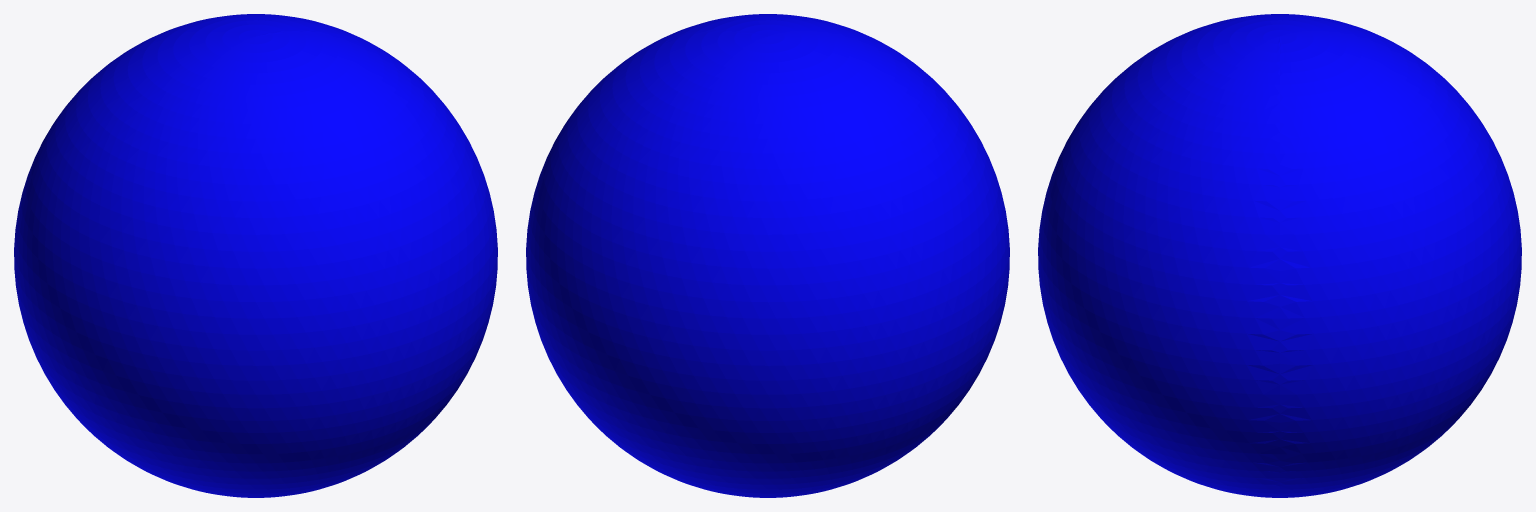
File: pelota1.dae
The picture shows the model from 3 angles, left to right: view 1: azimuth 30°, elevation 25°; view 2: azimuth 150°, elevation 25°; view 3: azimuth 270°, elevation 25°; orthographic projection.
Parts seen in each view (by area): view 1: node0; view 2: node0; view 3: node0.
Part boxes in pixels (x1,y1,x2,y2): node0: (14,14,497,497); node0: (526,14,1009,497); node0: (1038,14,1521,497).
Bounding box in the file's own units: 0.2227 × 0.2227 × 0.2228.
